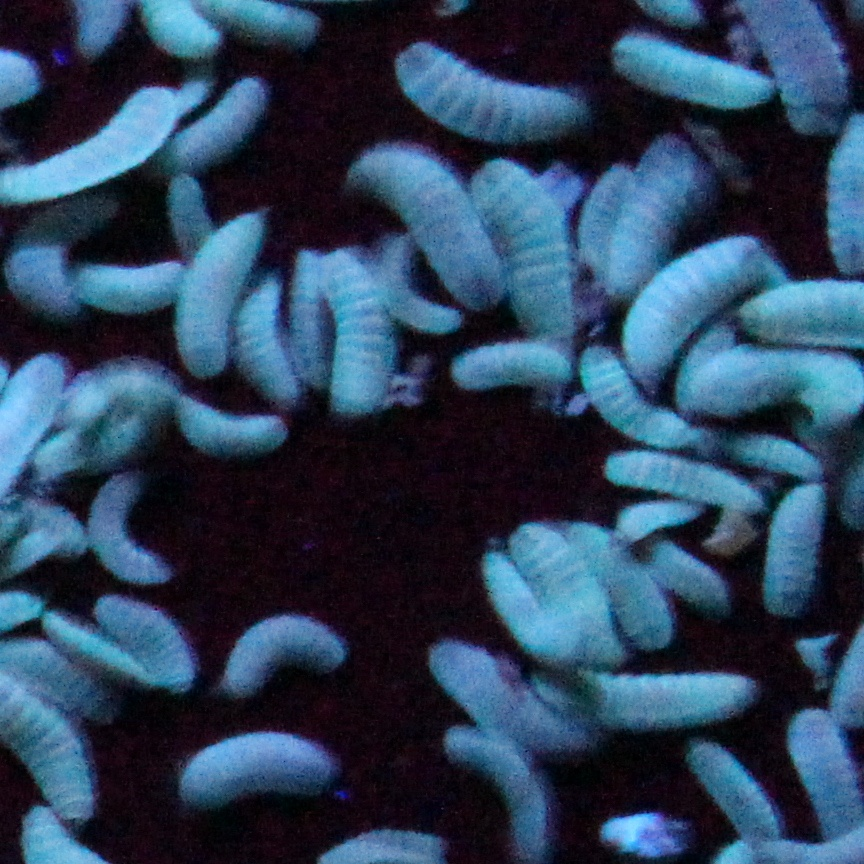larve: (467, 155, 597, 363), (359, 138, 512, 303), (387, 35, 584, 143), (607, 230, 752, 375), (607, 110, 714, 288), (167, 195, 264, 388), (564, 643, 754, 738), (682, 343, 857, 440), (509, 523, 622, 665), (67, 588, 197, 710), (304, 253, 404, 408), (179, 718, 337, 815), (577, 325, 699, 450), (444, 650, 589, 755), (607, 33, 782, 115), (224, 588, 352, 700), (564, 518, 669, 635), (609, 443, 772, 518), (472, 545, 574, 663), (687, 743, 787, 855), (159, 75, 269, 173), (84, 468, 167, 590), (172, 383, 289, 468), (759, 485, 832, 620), (239, 285, 312, 415), (649, 533, 742, 625), (69, 260, 197, 323), (744, 280, 857, 350), (14, 238, 102, 323)
